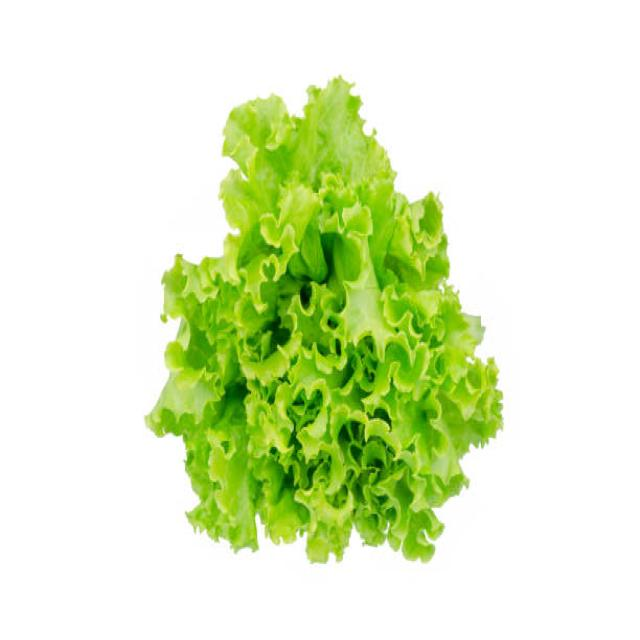Wet Waste: (154, 76, 506, 561)
